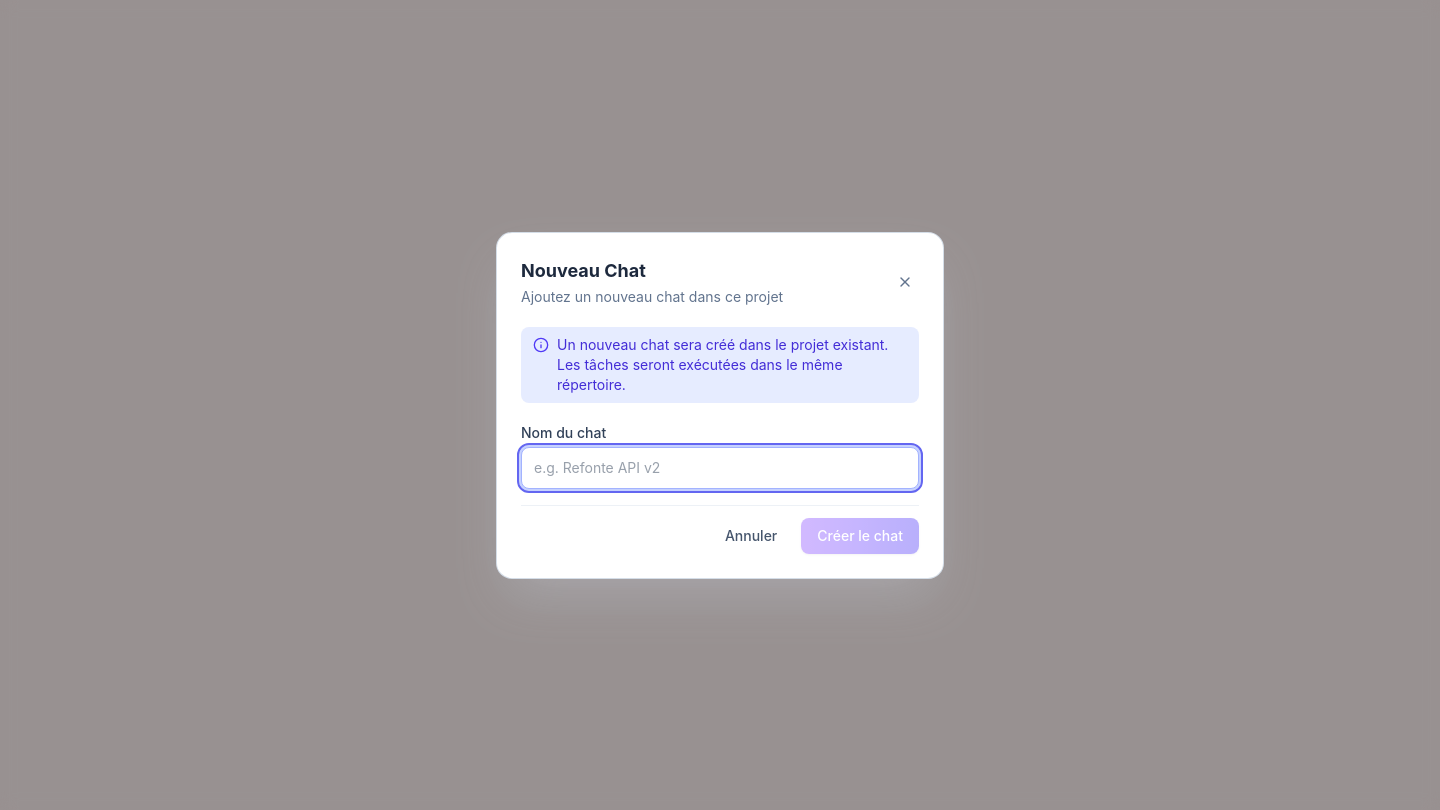
Test: NewSessionModal — new chat mode (defaultDirectory provided) › submit button is disabled until titre is filled (directory pre-filled)
expect the button "Créer le chat" is disabled: met, box left=801, top=518, right=919, bottom=554
Type "Mon chat" into the field with placeholder "e.g. Refonte API v2" at [720, 468], box left=521, top=446, right=919, bottom=488
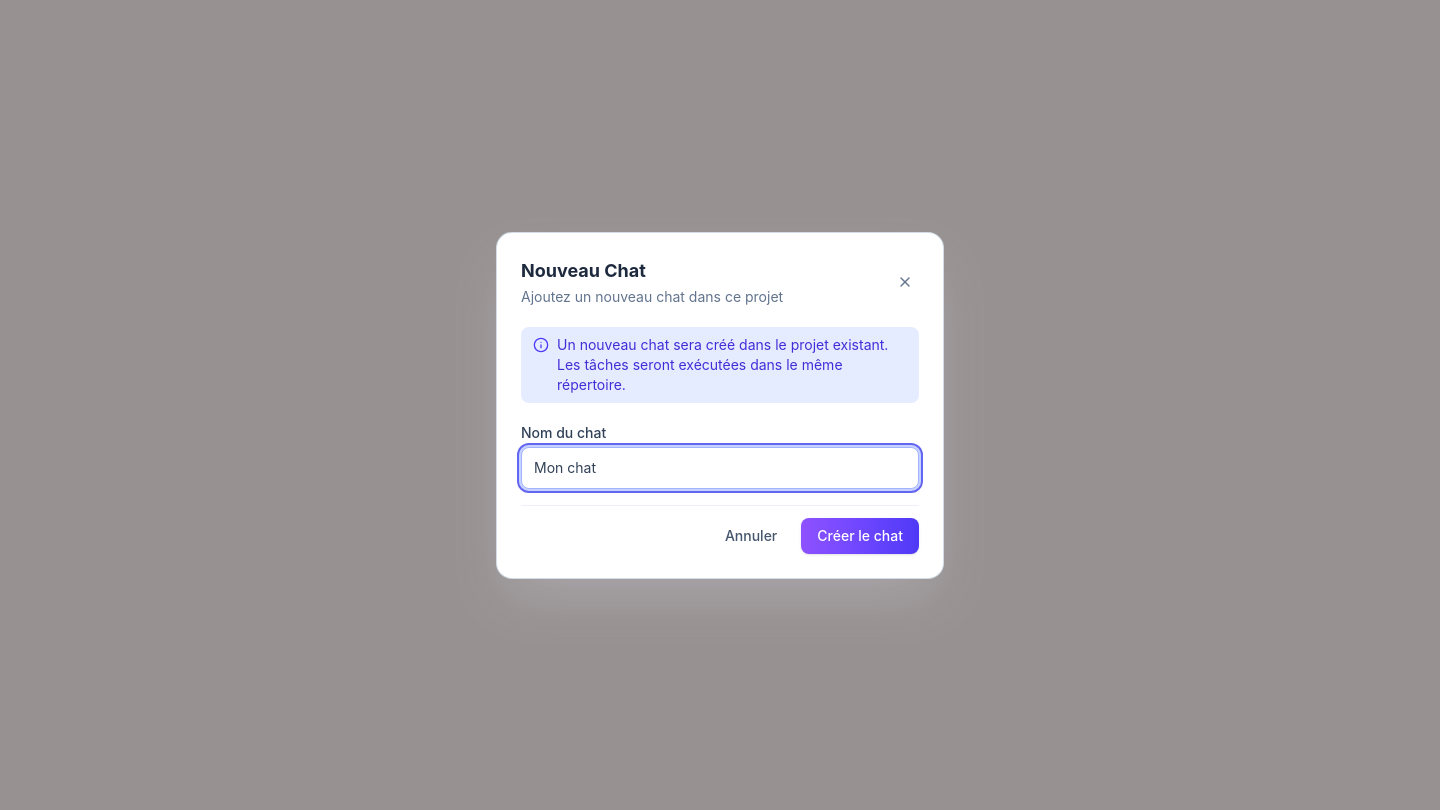
expect the button "Créer le chat" is enabled: met, box left=801, top=518, right=919, bottom=554
